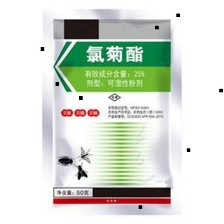insecticide: (37, 1, 188, 218)
